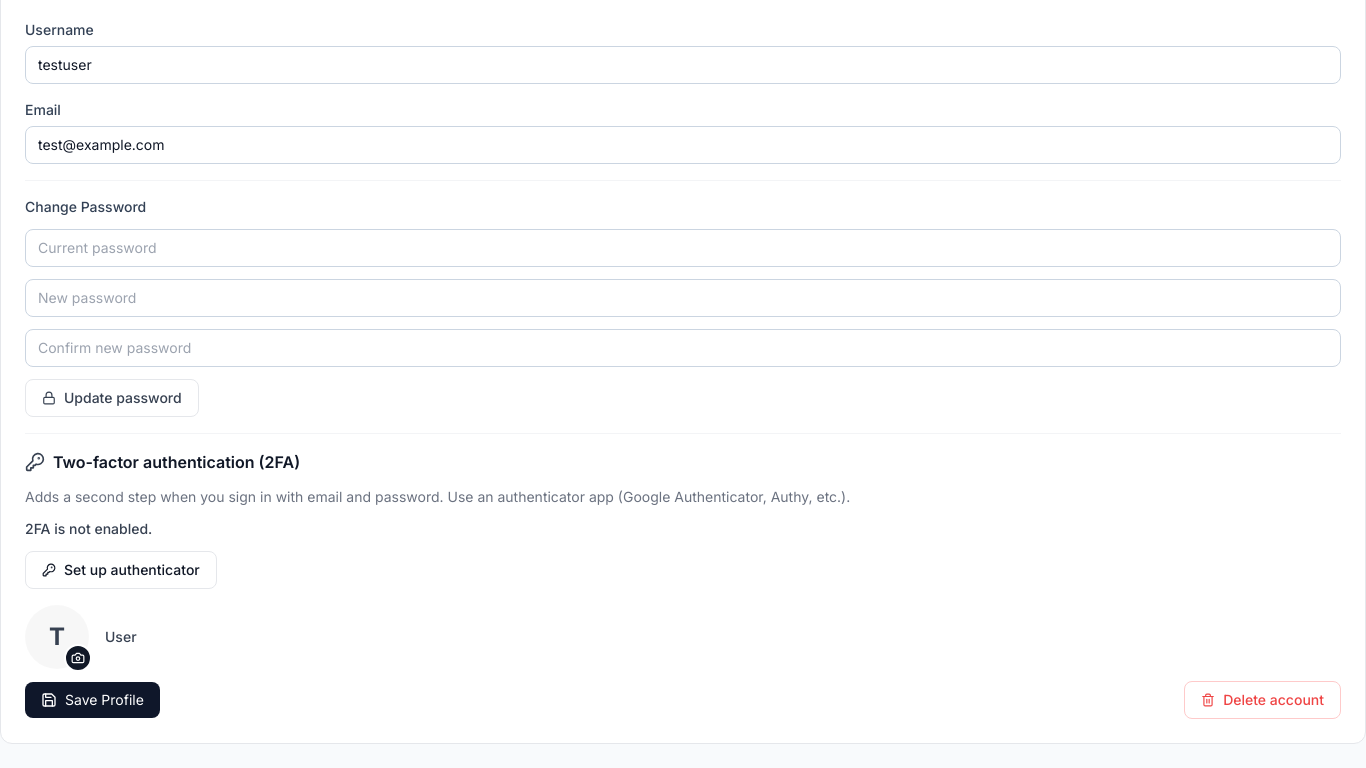
Test: AccountTab – Profile › FE-COMP-ACCOUNT-017: Save button shows spinner while saving
The width and height of the screenshot is (1366, 768).
Click the button "Save Profile": click(92, 700) [25,682,160,718]
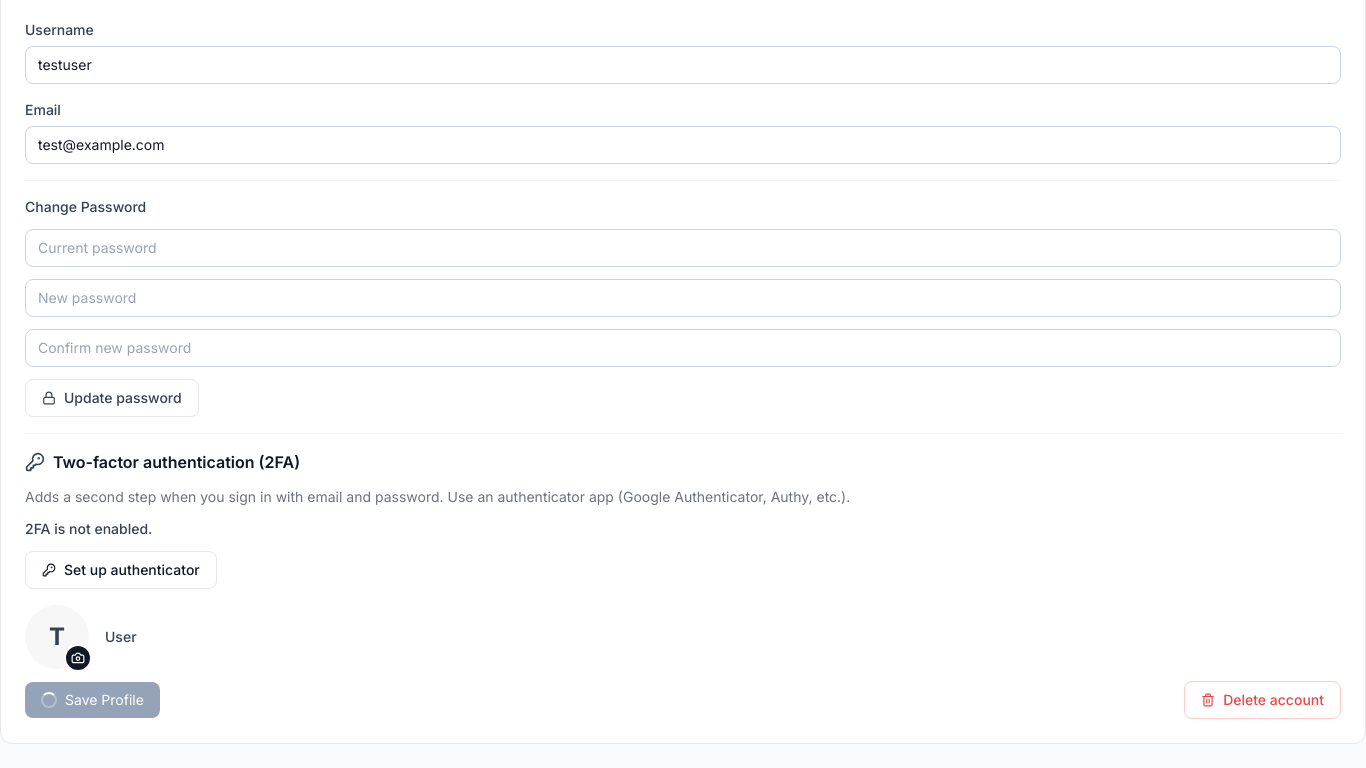
Now the element with class "animate-spin" is shown, box [41,692,57,708]
